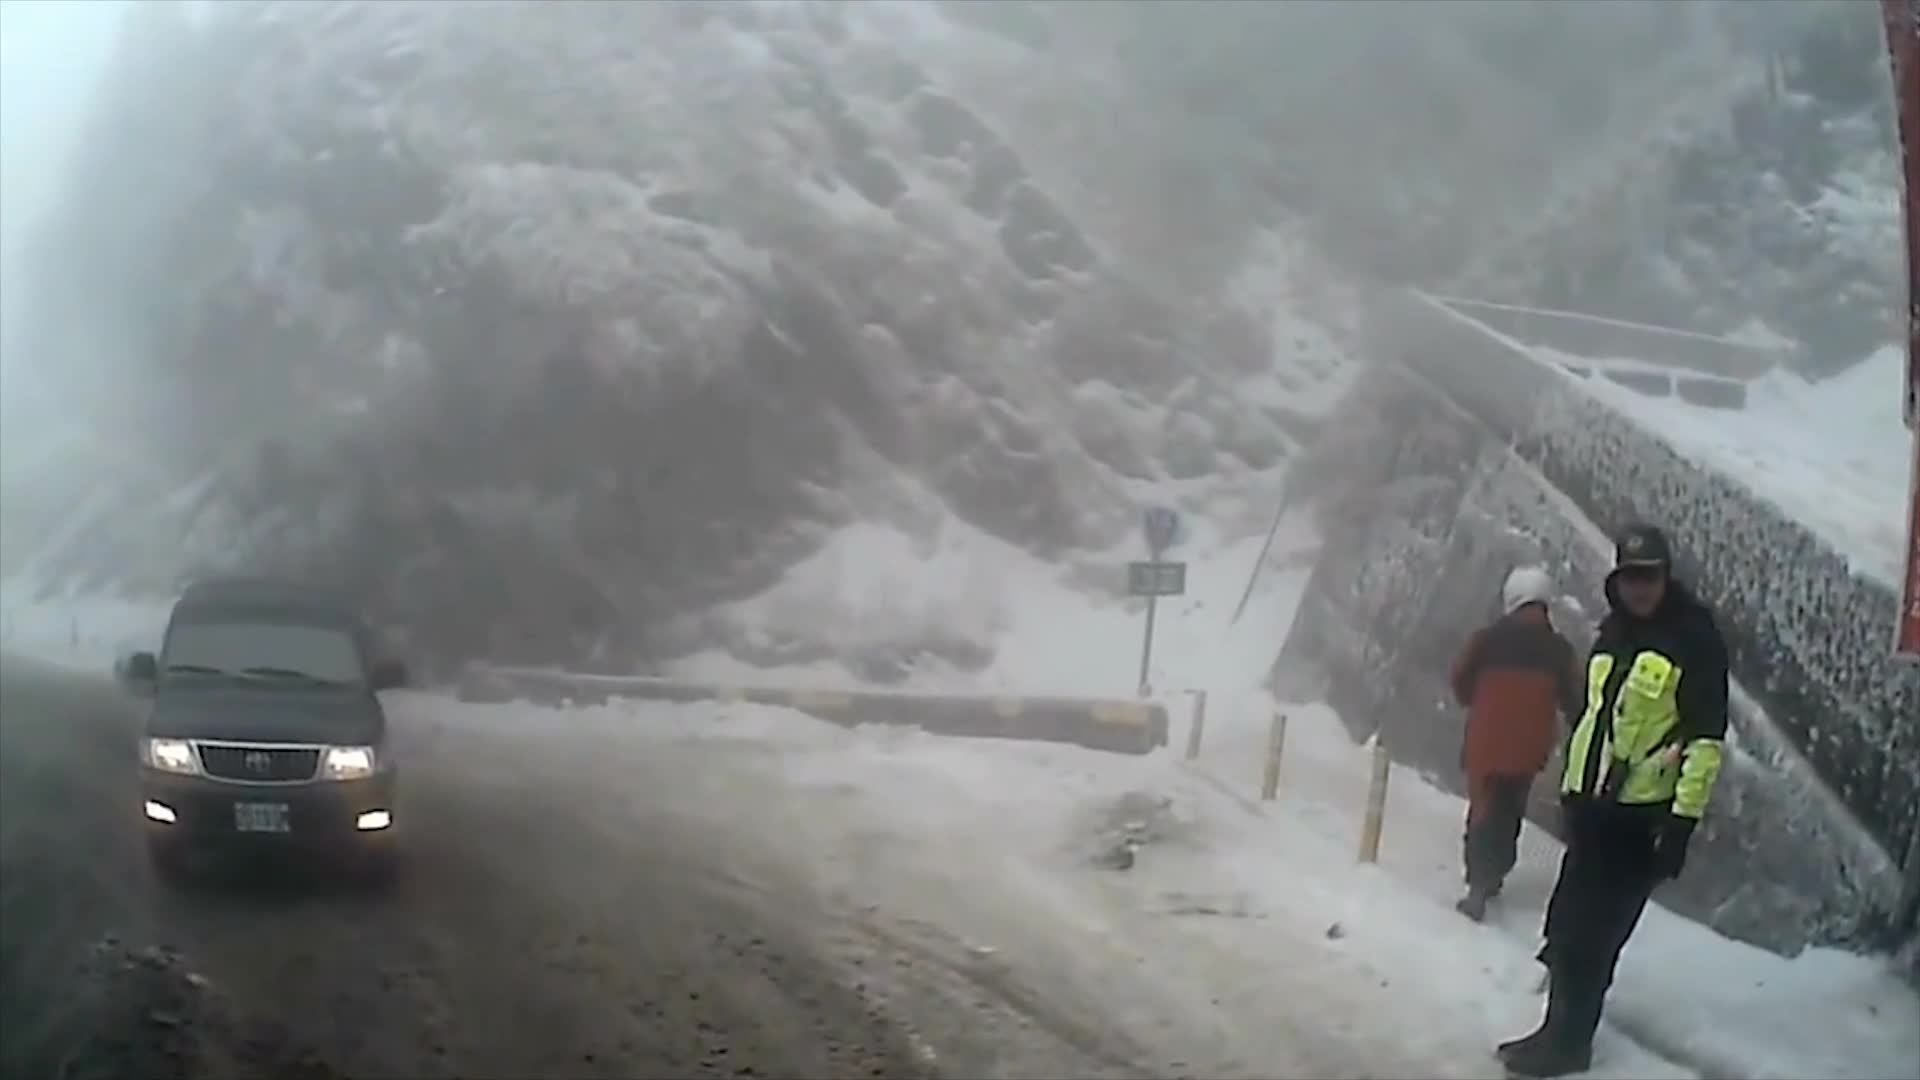pedestrian: (1510, 521, 1742, 1071), (1453, 560, 1590, 915)
vehicle: (127, 579, 407, 887)
